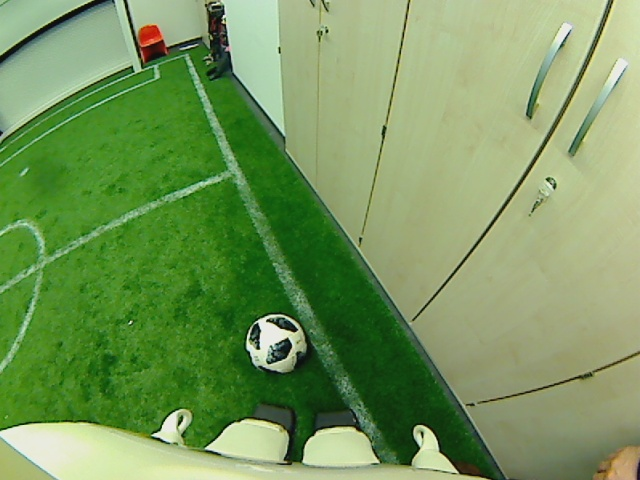ball: (244, 310, 307, 374)
